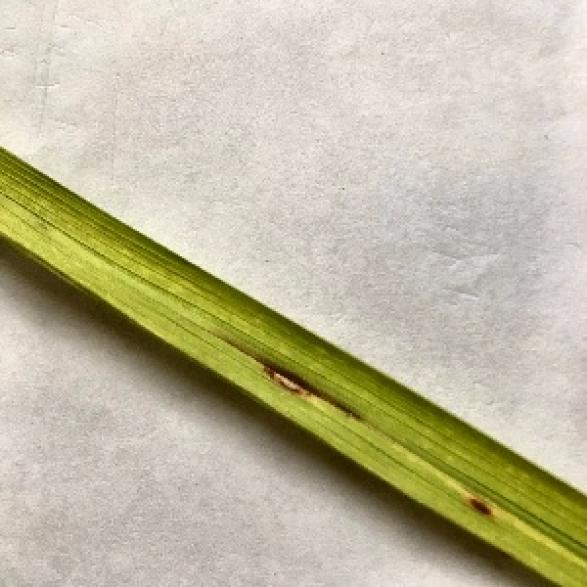Leaf_smut: (227, 334, 378, 421), (450, 472, 511, 528)
